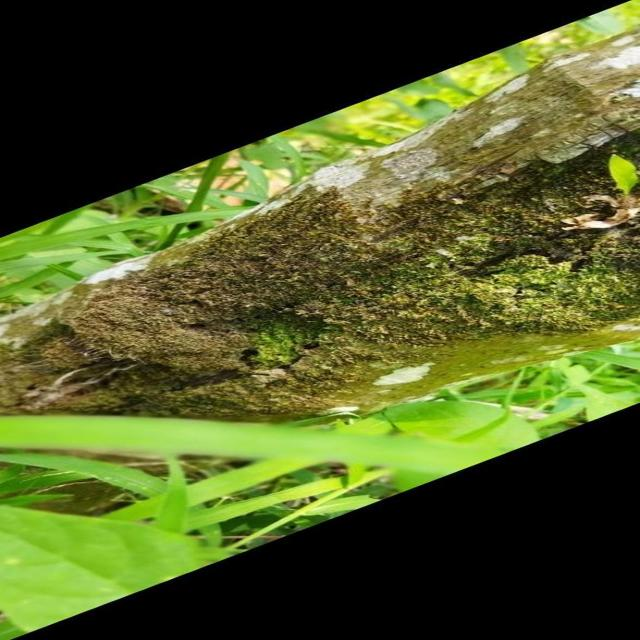Stem_Cracking: (183, 198, 573, 392)
